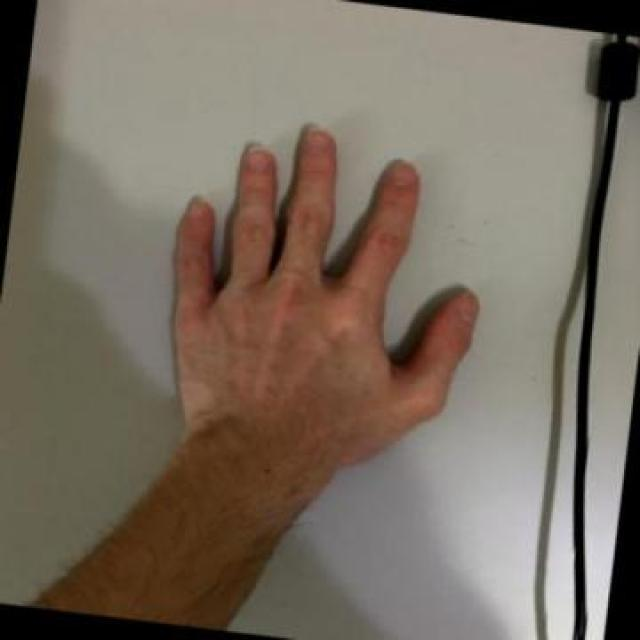no-gloves: (168, 120, 482, 454)
